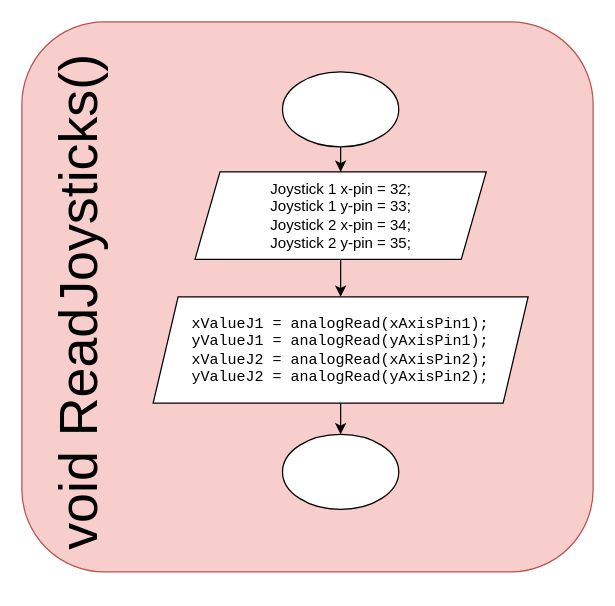
This 615x606 diagram has some shape labels left out. The shapes that lost their labels are listed below. From the top down, each one's box as (x1, y1, x2, y2) in pixels, then its label:
(281, 71, 399, 147): Start
(281, 433, 399, 509): End
